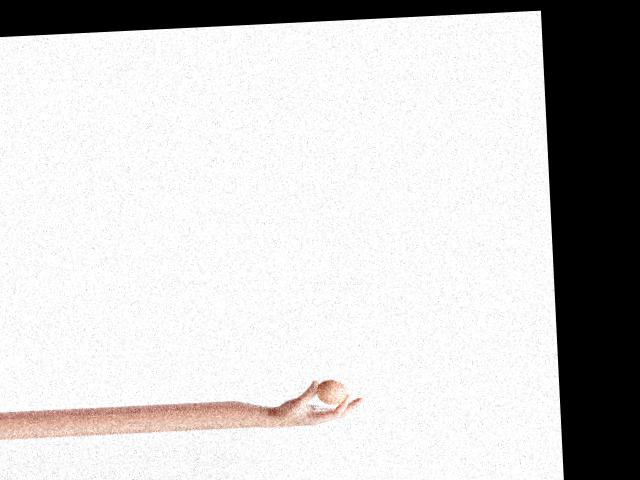egg: (315, 379, 347, 404)
